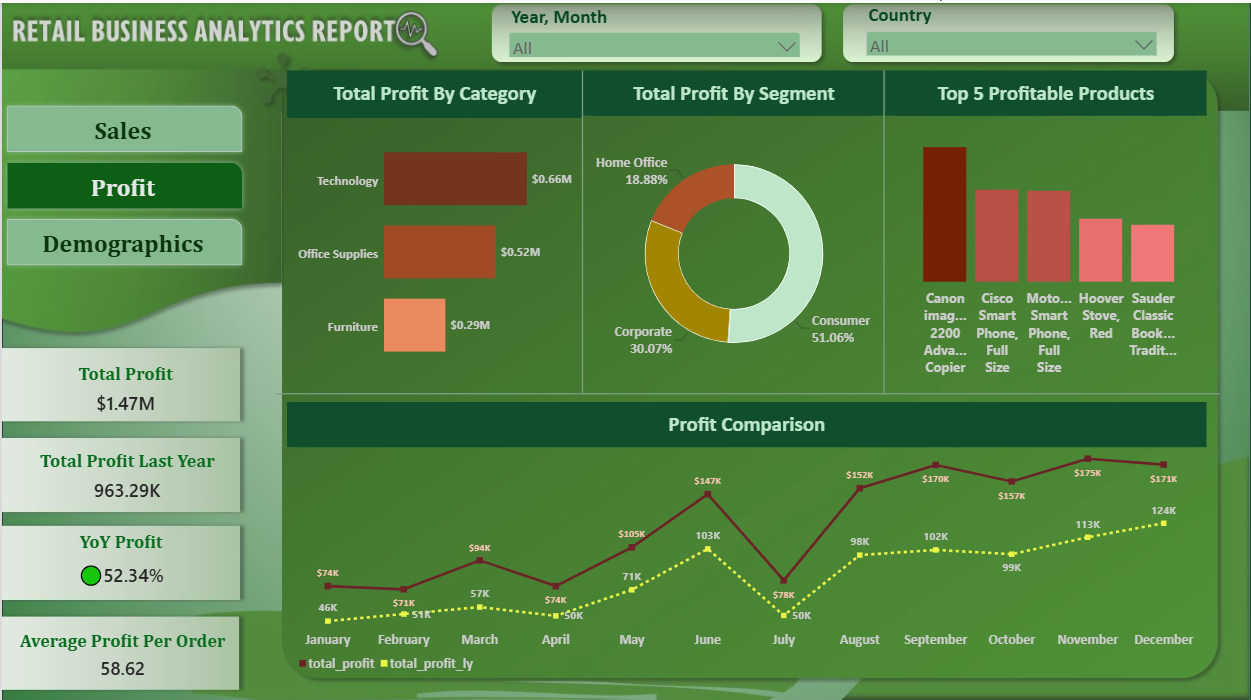

The page's visual inventory and layout, read from the dashboard file:
{"tool":"powerbi","page":{"name":"Profit","canvas":[1920,1080],"ordinal":1},"visuals":[{"type":"card","title":"Total Profit","fields":{"Values":["calculated_table.total_profit"]},"box":[34.6,539.2,311.1,106],"z":0},{"type":"card","title":"Total Profit Last Year","fields":{"Values":["calculated_table.total_profit_ly"]},"box":[36.9,672.9,311.1,106],"z":1000},{"type":"card","title":"YoY Profit","fields":{"Values":["calculated_table.yoy_growth_profit"]},"box":[27.7,797.3,311.1,117.5],"z":2000},{"type":"card","title":"Average Profit Per Order","fields":{"Values":["calculated_table.avg_profit_per_order"]},"box":[0,949.4,371,99.1],"z":3000},{"type":"donutChart","title":"Total Profit By Segment","fields":{"Category":["customer_table.Segment"],"Y":["calculated_table.total_profit"]},"box":[891.8,103.7,465.5,509.3],"z":4000},{"type":"clusteredColumnChart","title":"Top 5 Profitable Products ","fields":{"Category":["product_table.Product Name"],"Y":["calculated_table.total_profit"]},"box":[1357.3,103.7,493.2,488.5],"z":5000},{"type":"clusteredBarChart","title":"Total Profit By Category","fields":{"Category":["product_table.Category"],"Y":["calculated_table.total_profit"]},"box":[437.8,103.7,454,497.8],"z":6000},{"type":"lineChart","title":"Profit Comparison","fields":{"Category":["Date_Table.Date.Variation.Date Hierarchy.Month"],"Y":["calculated_table.total_profit","calculated_table.total_profit_ly"]},"box":[437.8,613,1412.6,435.5],"z":7000},{"type":"shape","box":[712.1,103.7,359.5,497.8],"z":8000},{"type":"shape","box":[1175.3,103.7,359.5,497.8],"z":9000},{"type":"shape","box":[421.7,539.2,1449.5,122.1],"z":10000},{"type":"pageNavigator","box":[0,149.8,377.9,262.7],"z":11000},{"type":"slicer","fields":{"Values":["Date_Table.Date.Variation.Date Hierarchy.Year","Date_Table.Date.Variation.Date Hierarchy.Month"]},"box":[774.3,2.3,456.4,80.9],"z":12000},{"type":"slicer","fields":{"Values":["location_table.Country"]},"box":[1322.8,0,456.4,80.9],"z":13000}]}

Visuals, with their boxes in screenshot pixels (x1, y1, x2, y2), scaled from the page's 1920x1080 canvas onto the 1251x700 screenshot:
"Total Profit" card: detection(23, 349, 225, 418)
"Total Profit Last Year" card: detection(24, 436, 227, 505)
"YoY Profit" card: detection(18, 517, 221, 593)
"Average Profit Per Order" card: detection(0, 615, 242, 680)
"Total Profit By Segment" donutChart: detection(581, 67, 884, 397)
"Top 5 Profitable Products " clusteredColumnChart: detection(884, 67, 1206, 384)
"Total Profit By Category" clusteredBarChart: detection(285, 67, 581, 390)
"Profit Comparison" lineChart: detection(285, 397, 1206, 680)
shape: detection(464, 67, 698, 390)
shape: detection(766, 67, 1000, 390)
shape: detection(275, 349, 1219, 429)
pageNavigator: detection(0, 97, 246, 267)
slicer - Date_Table.Date.Variation.Date Hierarchy.Year x Date_Table.Date.Variation.Date Hierarchy.Month: detection(505, 1, 802, 54)
slicer - location_table.Country: detection(862, 0, 1159, 52)
